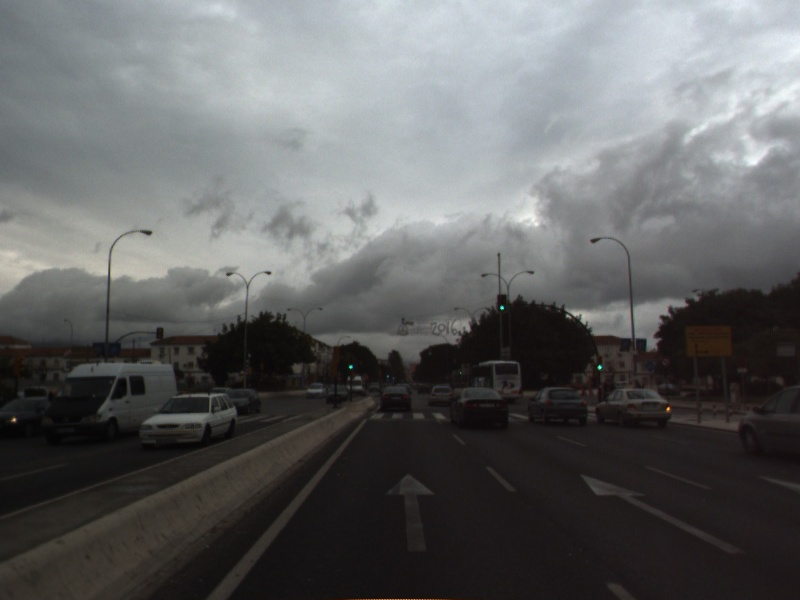STRAIGHT: (578, 472, 748, 557), (383, 471, 438, 554)
